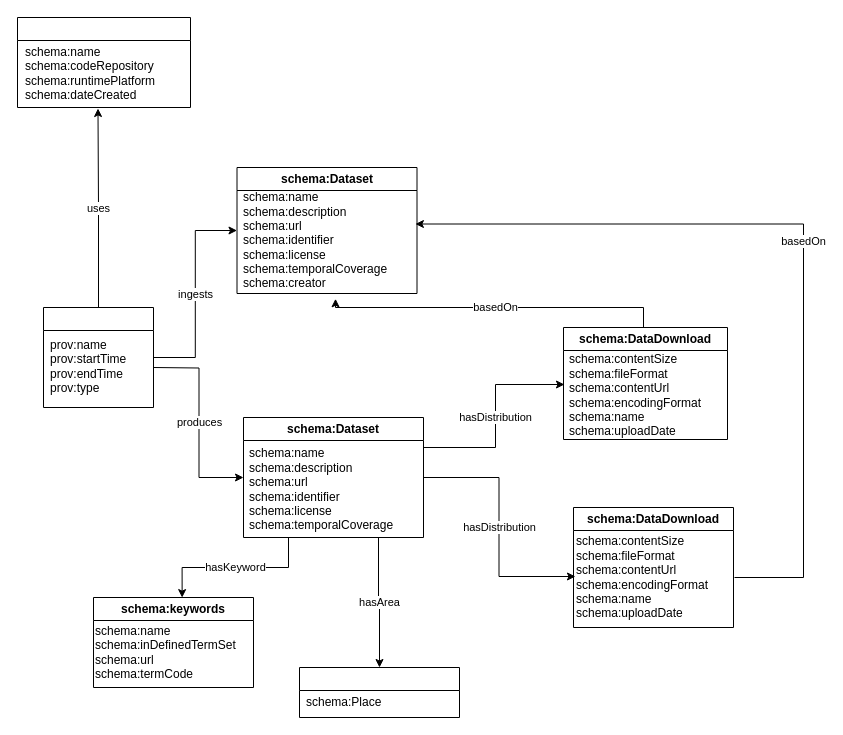
Image size: 843x735. Some labels were removed from this diagram. Here are the shapes that lost their labels. From the top down, the box of each, then its label:
(16, 16, 190, 108): schema:SoftwareSourceCode
(42, 306, 154, 408): prov:Activity
(298, 666, 460, 718): schema:spatialCoverage
